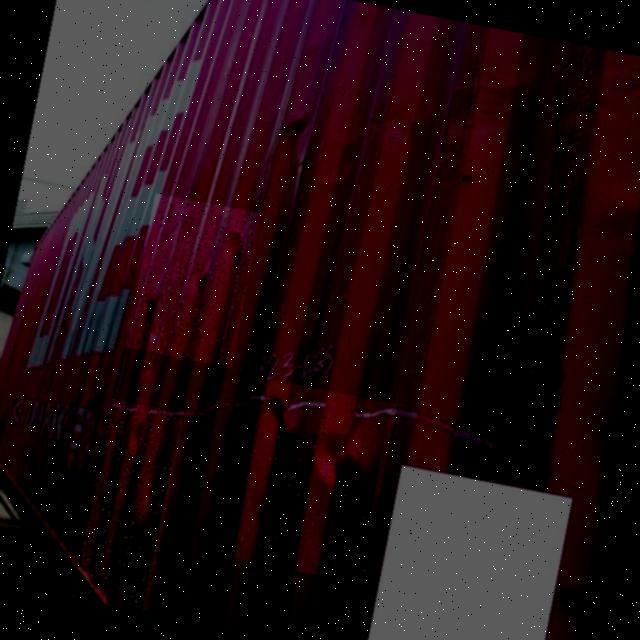Dent: (230, 379, 397, 584)
Minor-Dent: (72, 399, 185, 613), (125, 193, 261, 368)
